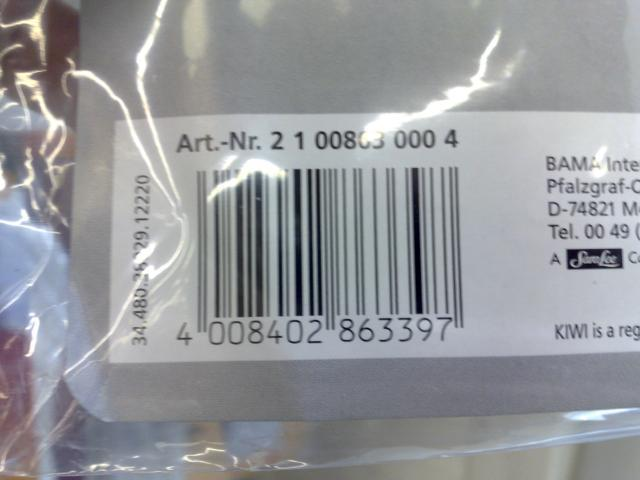Barkod: (192, 166, 464, 316)
